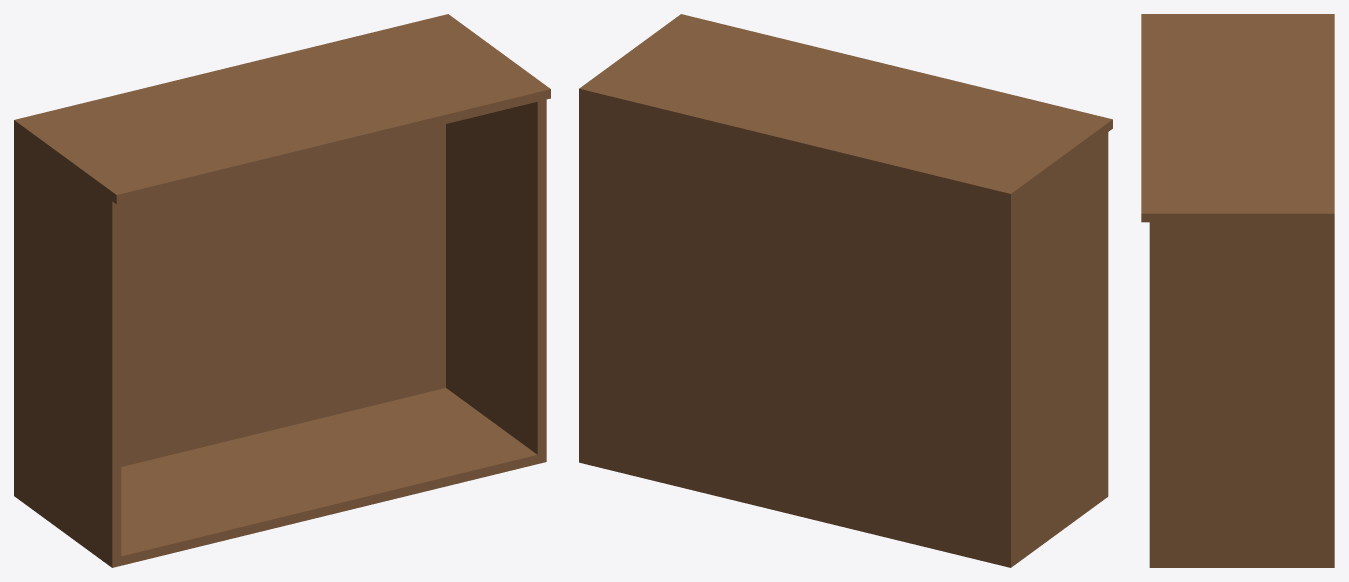
The model's file is Cupboard_09_01.fbx.
3 views of the same model, side by side, from view 1: azimuth 30°, elevation 25°; view 2: azimuth 150°, elevation 25°; view 3: azimuth 270°, elevation 25° (orthographic). The views are drawn at different scales.
Visible parts, largest first — view 1: Cupboard_09_01; view 2: Cupboard_09_01; view 3: Cupboard_09_01.
Boxes of the visible parts, x1,y1,x2,y2 form: Cupboard_09_01: (14, 14, 550, 567); Cupboard_09_01: (579, 14, 1112, 567); Cupboard_09_01: (1141, 14, 1334, 567).
Bounding box in the file's own units: 128 × 106 × 52.52.
